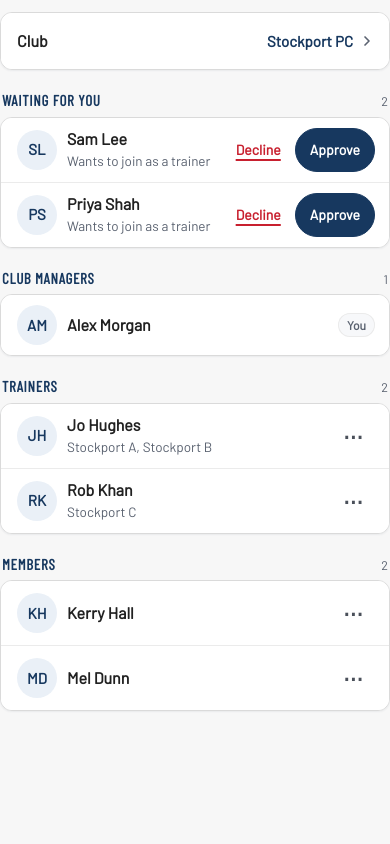
MembersPage: a person's menu › opens a sheet that lists the roles with theirs ticked, and Remove from club in red
Expected: the text "Jo Hughes" is shown, [67, 415, 140, 434]
Click the button "⋯" next to "Stockport A, Stockport B": (353, 436) [331, 414, 375, 458]
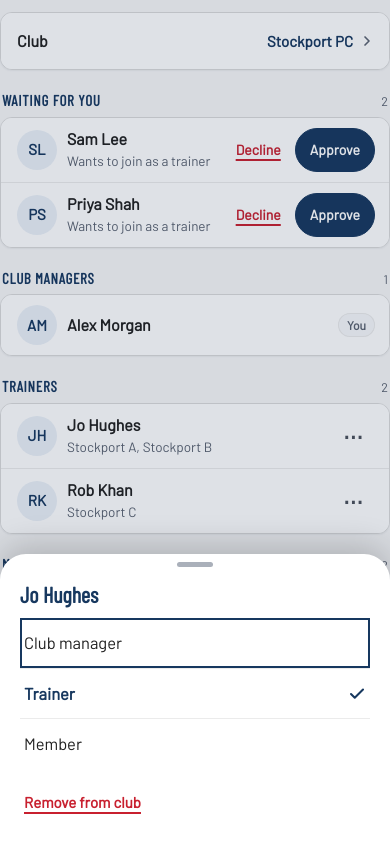
Expected: the dialog "Jo Hughes" is shown, [0, 554, 389, 843]
Expected: the radio buttons read "Club manager", "Trainer", "Member", in this order, [20, 618, 370, 668]; [20, 668, 370, 718]; [20, 718, 370, 768]
